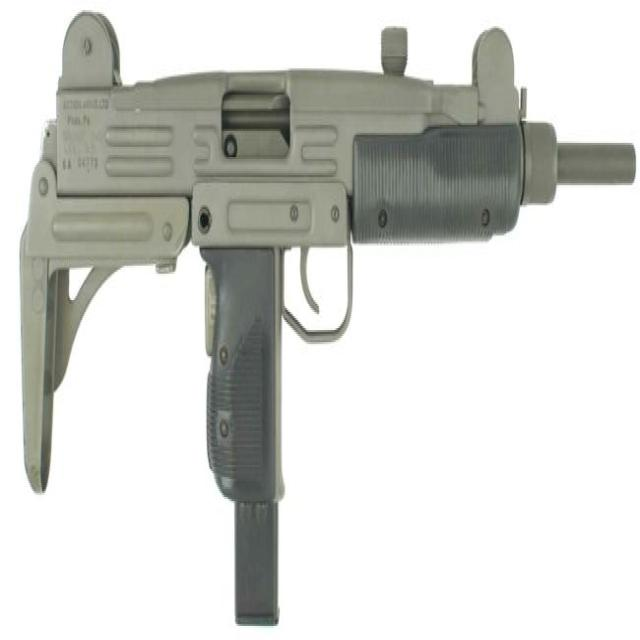SMG: (17, 12, 640, 632)
